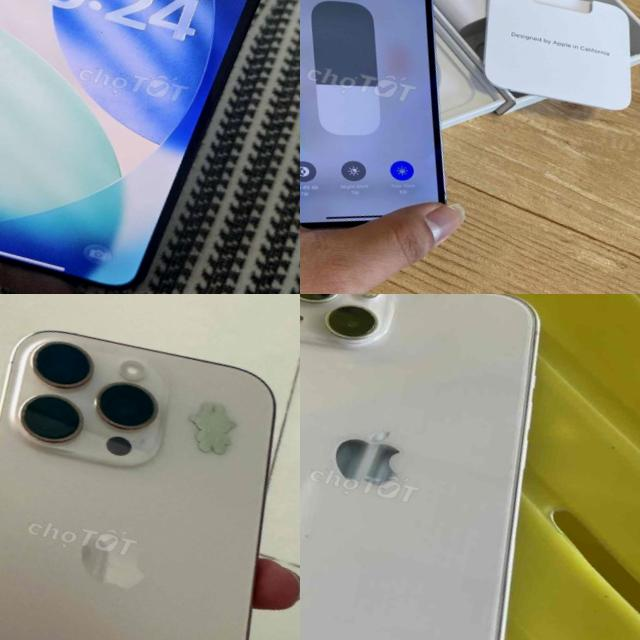gen_12_13: (300, 294, 597, 640), (0, 0, 277, 294), (300, 0, 519, 269)
gen_16: (0, 330, 275, 640)
